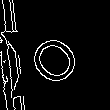O_SE: (19, 24, 86, 91)
